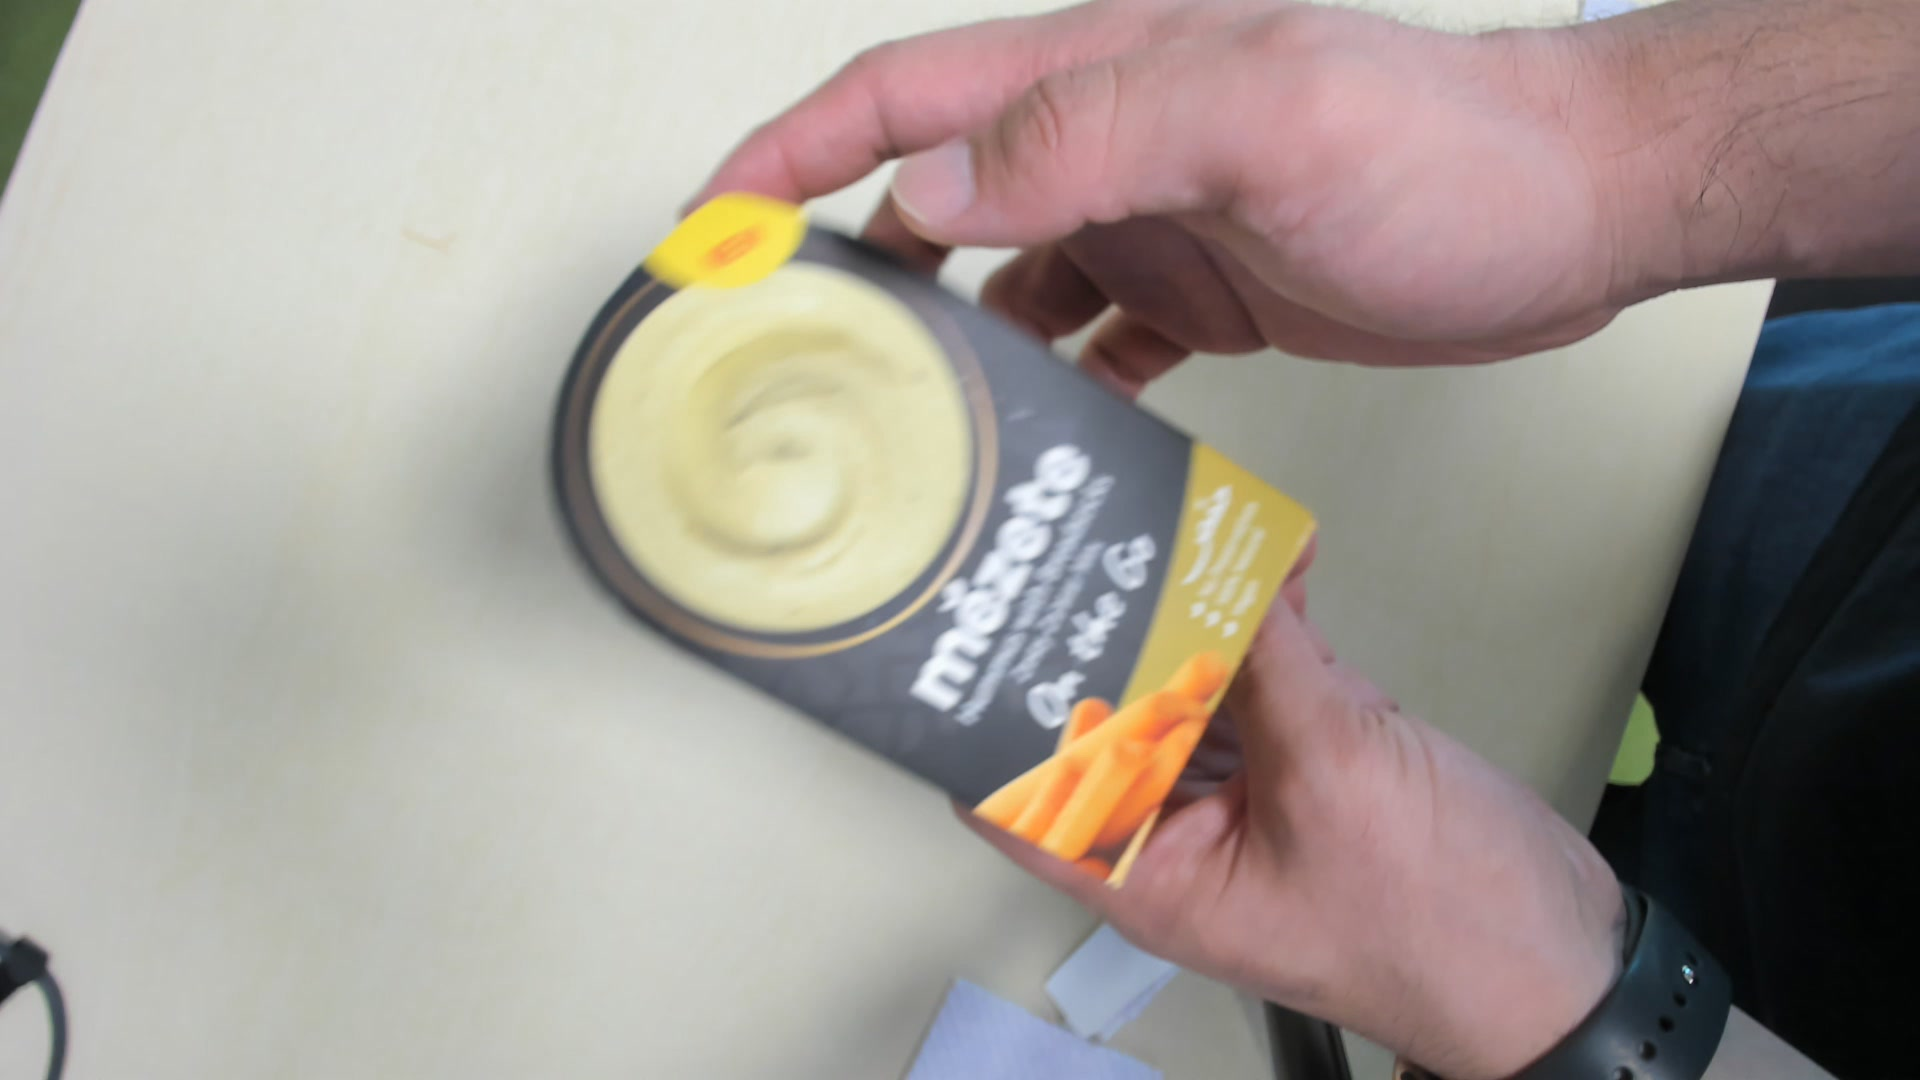InstantMeals_0-99g_NonHalal_NonHealthy: (547, 179, 1320, 894)
